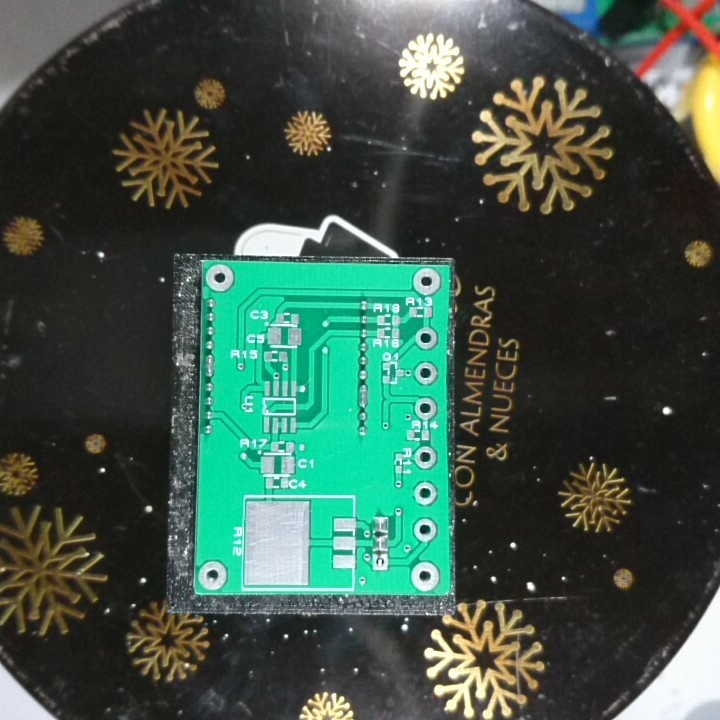F: (204, 260, 239, 297), (196, 558, 230, 593), (410, 266, 445, 298), (410, 558, 438, 594), (412, 359, 441, 388), (411, 444, 440, 472), (411, 480, 439, 509), (411, 515, 437, 544), (416, 322, 441, 352), (414, 395, 439, 421), (370, 552, 392, 572)
P: (202, 352, 222, 380), (355, 382, 372, 409)
